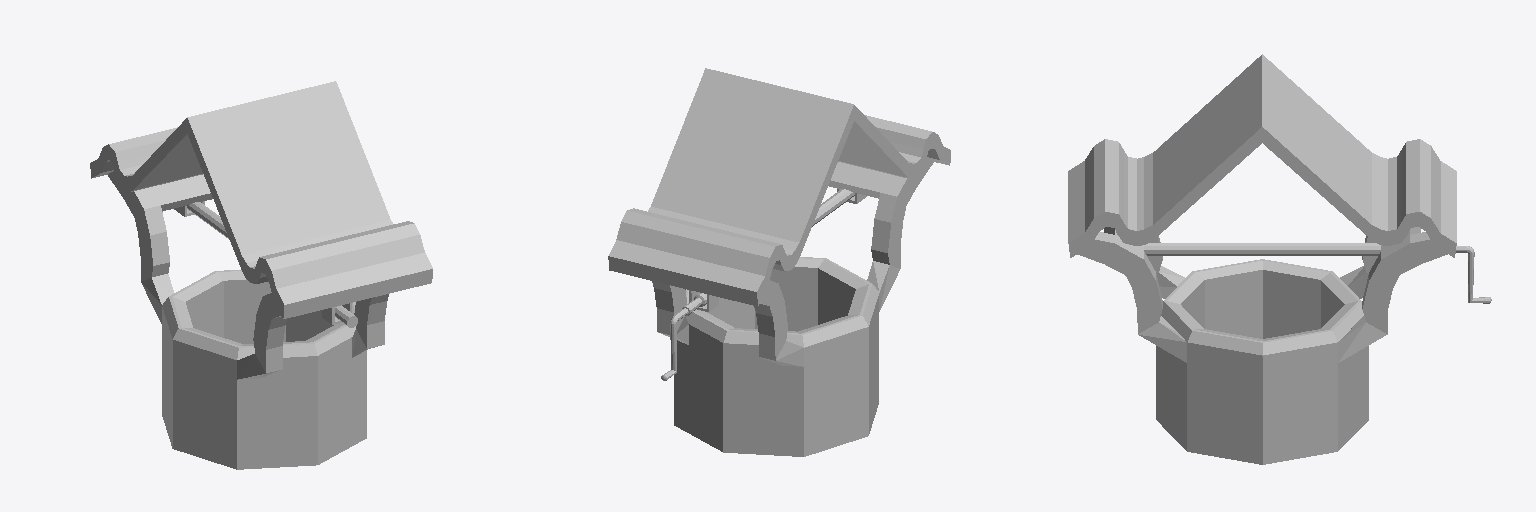
File: cartoon_well_obj.obj
The picture shows the model from 3 angles: view 1: azimuth 30°, elevation 25°; view 2: azimuth 150°, elevation 25°; view 3: azimuth 270°, elevation 25°; orthographic projection.
Visible parts, largest first — view 1: cartoon_well; view 2: cartoon_well; view 3: cartoon_well.
Boxes of the visible parts, x1=… form: cartoon_well: x1=90, y1=81, x2=432, y2=469; cartoon_well: x1=608, y1=68, x2=950, y2=456; cartoon_well: x1=1068, y1=54, x2=1491, y2=464.
Size of the model in its own units: 53.81 by 91.57 by 107.